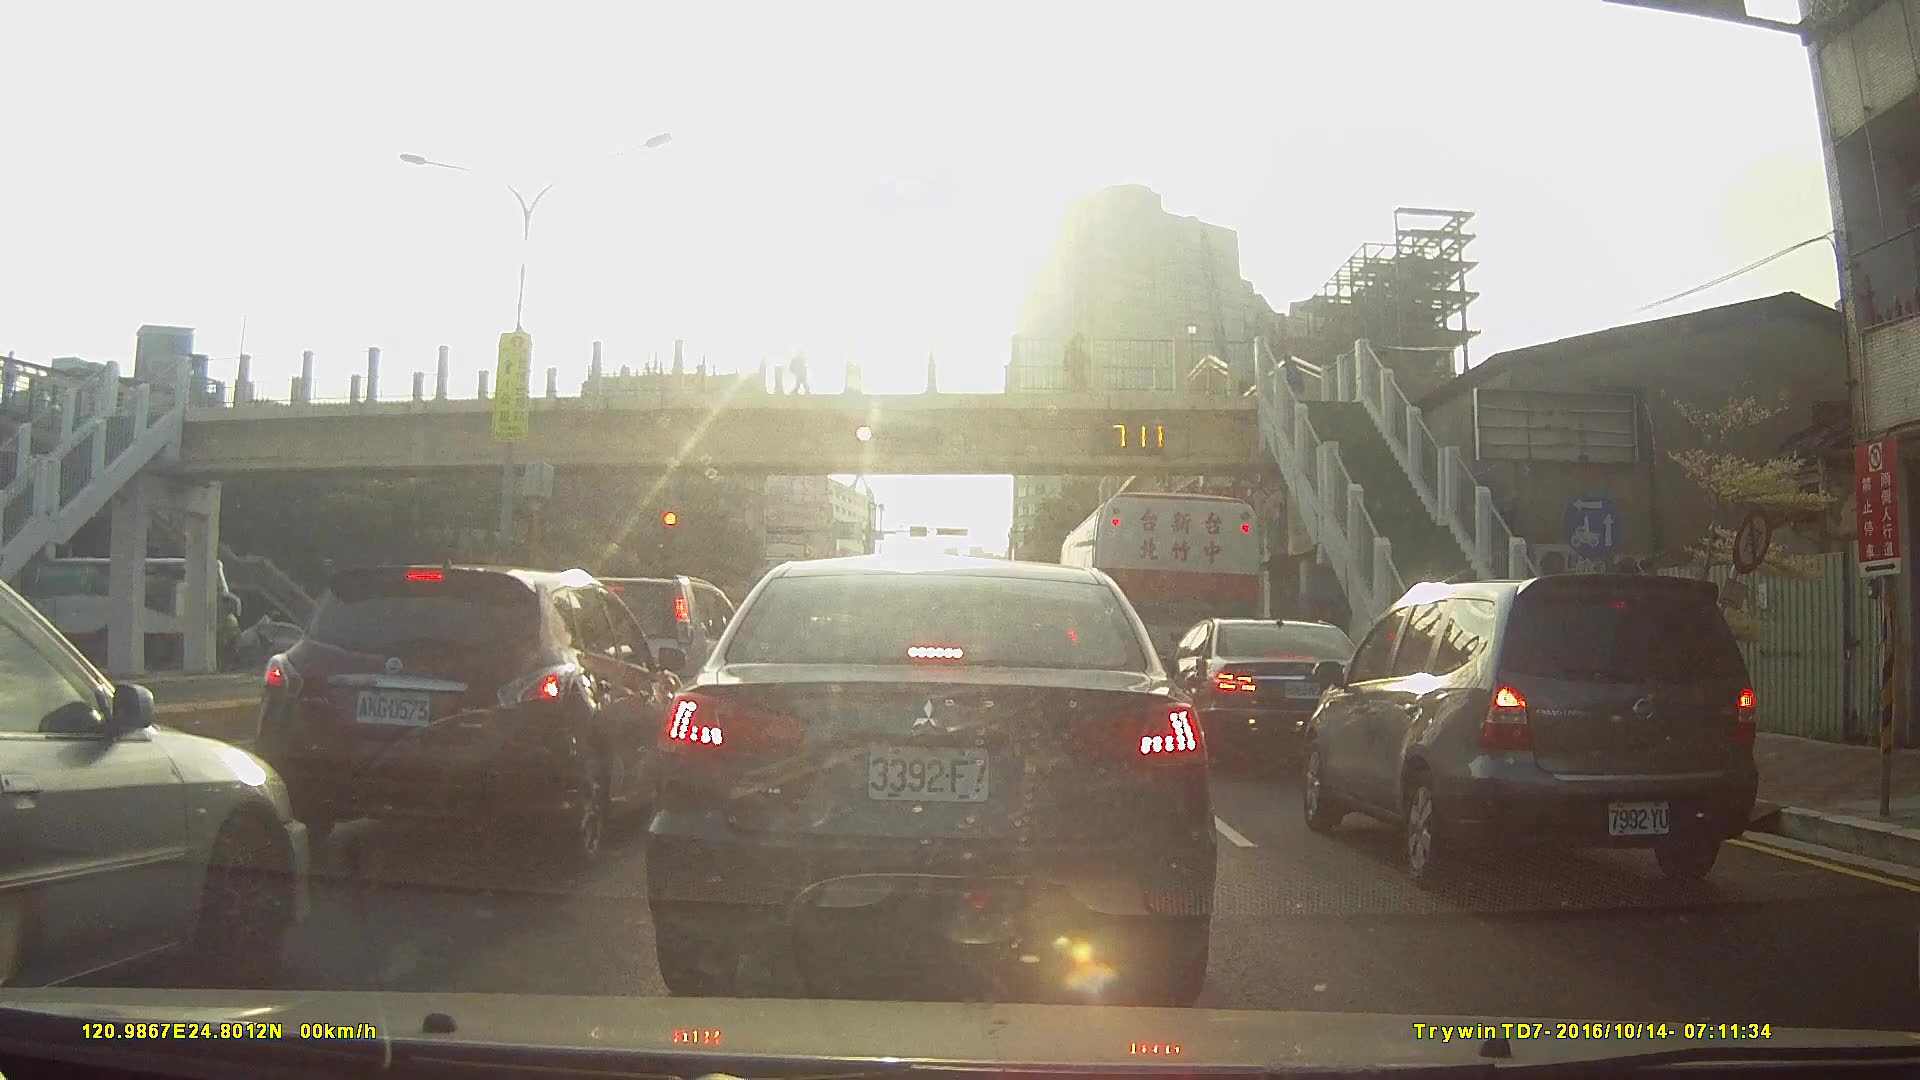pedestrian: (1283, 353, 1306, 419), (1068, 331, 1090, 386), (789, 341, 809, 400)
rider: (234, 606, 293, 668)
vehicle: (644, 554, 1218, 1014), (1300, 572, 1758, 892), (255, 561, 687, 868), (0, 578, 313, 991), (1155, 616, 1369, 770), (0, 556, 234, 672)
